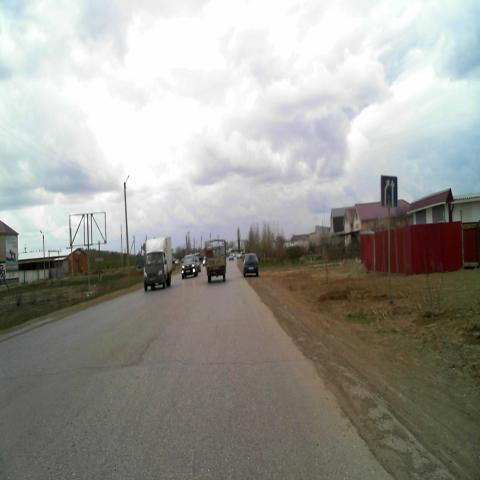5_15_5: (380, 174, 398, 206)
